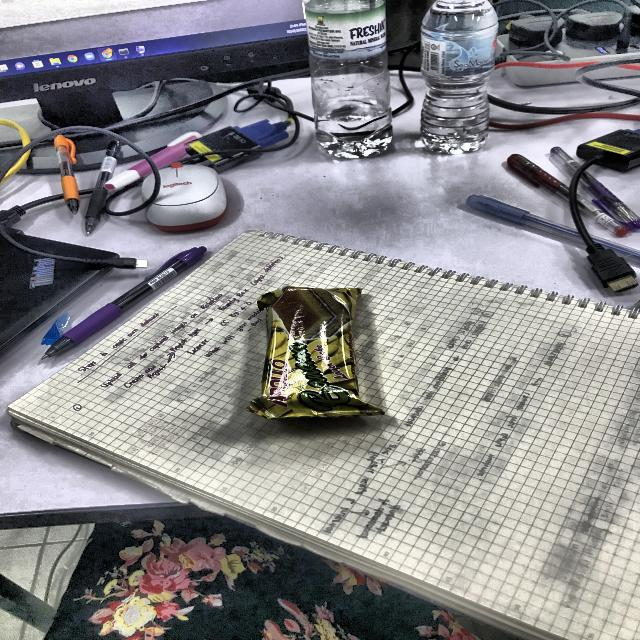Plastic: (257, 281, 375, 419)
